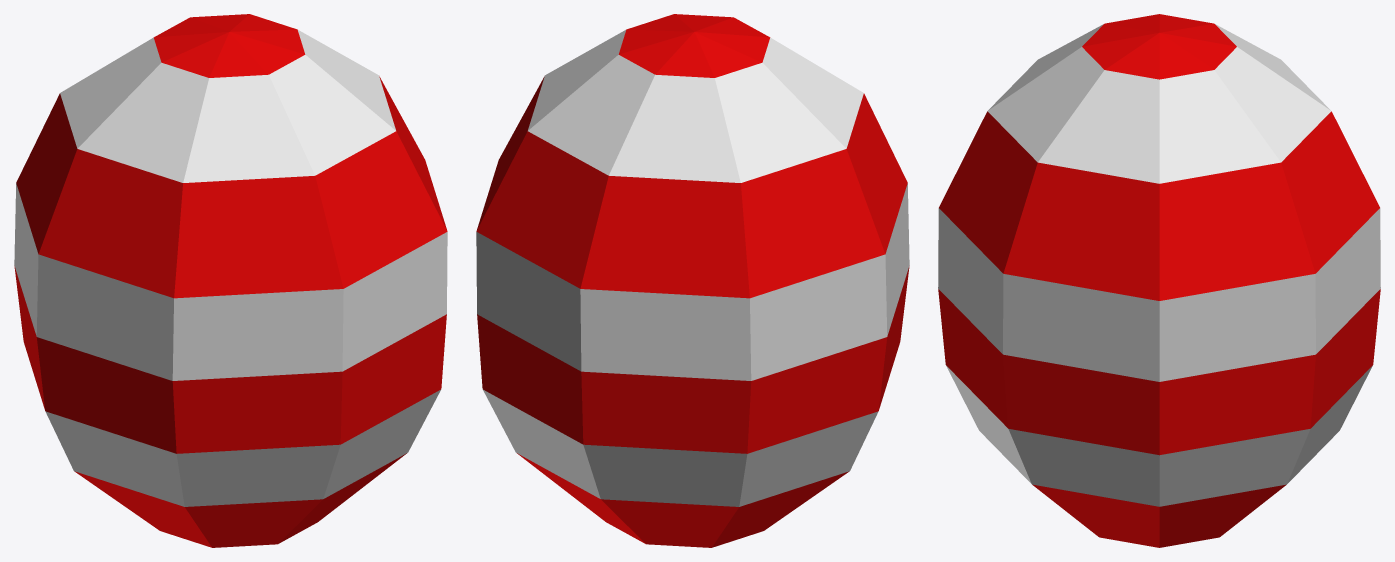
File: Huevo_de_pascua_2.fbx
3 views of the same model, side by side, from view 1: azimuth 30°, elevation 25°; view 2: azimuth 150°, elevation 25°; view 3: azimuth 270°, elevation 25° (orthographic).
Visible parts, largest first — view 1: pSphere1; view 2: pSphere1; view 3: pSphere1.
Boxes of the visible parts, x1,y1,x2,y2 form: pSphere1: (14,14,447,547); pSphere1: (476,14,909,547); pSphere1: (938,14,1380,547).
Size of the model in its own units: 12.92 by 15.77 by 12.9.
